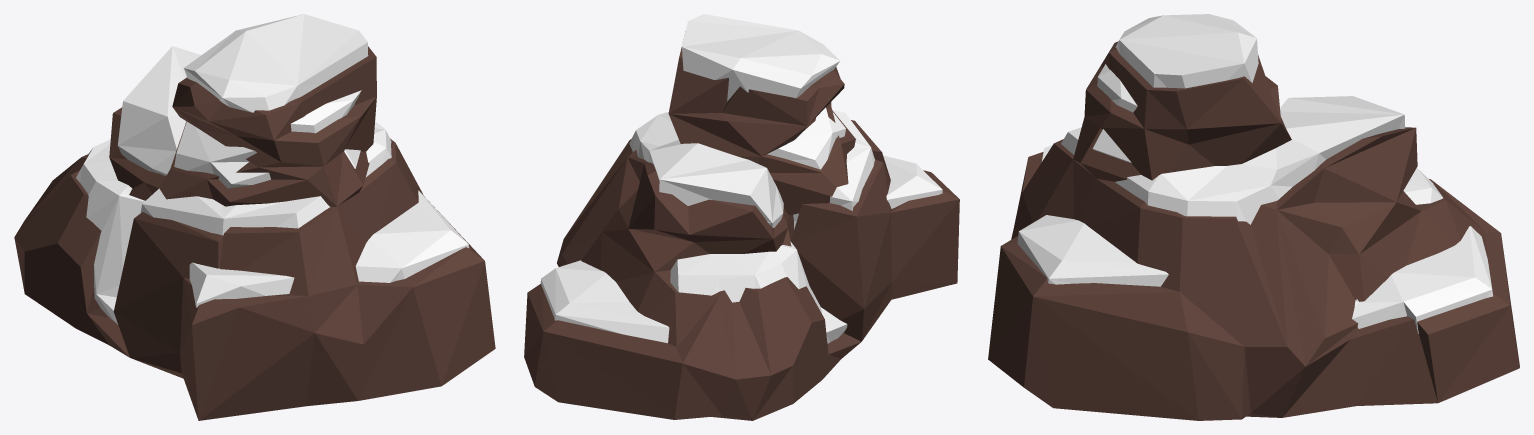
File: snow_rock_018.fbx
3 views of the same model, side by side, from view 1: azimuth 30°, elevation 25°; view 2: azimuth 150°, elevation 25°; view 3: azimuth 270°, elevation 25° (orthographic). The views are drawn at different scales.
Visible parts, largest first — view 1: snow_rock_018; view 2: snow_rock_018; view 3: snow_rock_018.
Part boxes in pixels (<box>): snow_rock_018: <box>14,14,495,420</box>; snow_rock_018: <box>524,14,959,420</box>; snow_rock_018: <box>988,14,1519,420</box>.
Bounding box in the file's own units: 1725 × 2340 × 1493.
